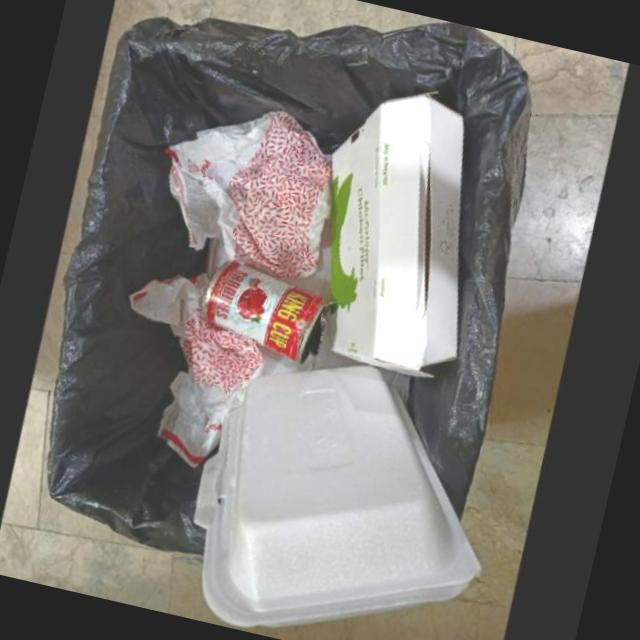carton: (325, 91, 461, 377)
giay: (161, 109, 330, 277), (127, 270, 264, 466)
nhom: (204, 259, 327, 369)
xop: (192, 362, 481, 627)
